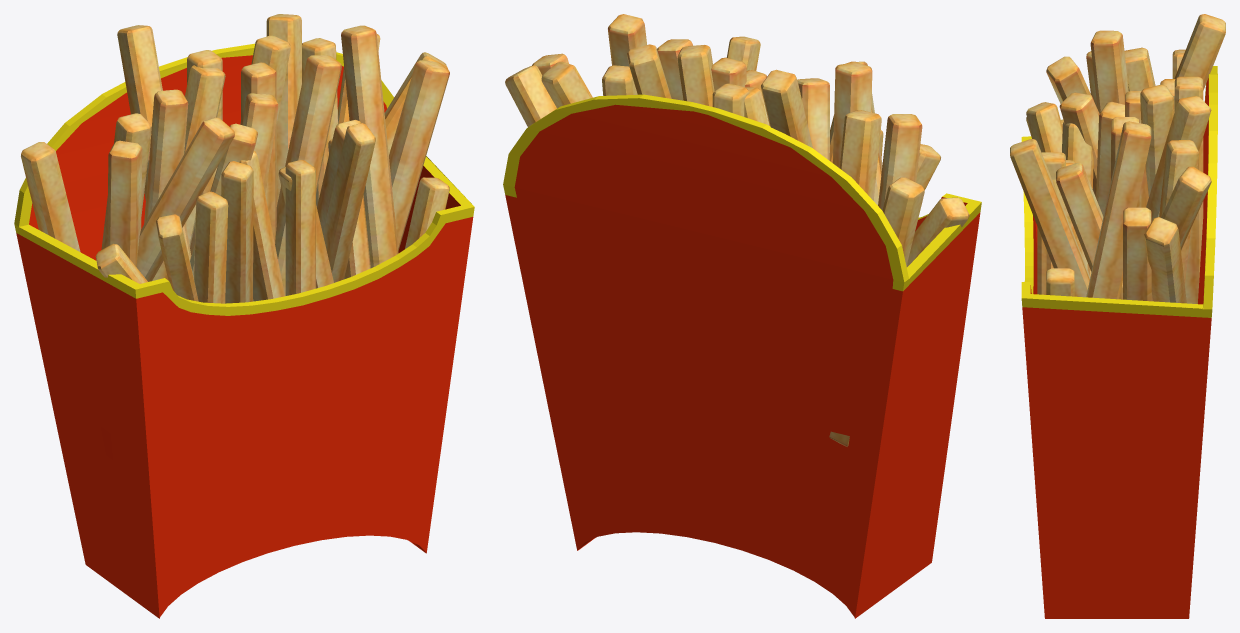
File: fries We are cooked.fbx
3 views of the same model, side by side, from view 1: azimuth 30°, elevation 25°; view 2: azimuth 150°, elevation 25°; view 3: azimuth 270°, elevation 25° (orthographic). The views are drawn at different scales.
Visible parts, largest first — view 1: bakje, french frie.012, french frie.011, french frie.019, french frie.014, french frie.023, french frie.026, french frie.020, french frie.018, french frie.017, french frie.001, french frie.027 (+18 smaller); view 2: bakje, french frie.002, french frie.018, french frie.003, french frie.017, french frie.001, french frie.005, french frie.016, french frie.008, french frie.028, french frie.006, french frie.009 (+7 smaller); view 3: bakje, french frie.012, french frie.023, french frie.008, french frie.013, french frie.011, french frie.017, french frie.006, french frie.005, french frie.003, french frie, french frie.009 (+12 smaller).
Boxes of the visible parts, <box> form: bakje: <box>14,43,474,618</box>; french frie.012: <box>341,25,398,268</box>; french frie.011: <box>389,60,449,250</box>; french frie.019: <box>136,117,234,281</box>; french frie.014: <box>275,55,341,296</box>; french frie.023: <box>323,123,375,282</box>; french frie.026: <box>221,161,253,303</box>; french frie.020: <box>285,160,315,295</box>; french frie.018: <box>107,140,142,266</box>; french frie.017: <box>144,89,188,280</box>; french frie.001: <box>21,142,80,251</box>; french frie.027: <box>194,191,228,303</box>; bakje: <box>503,94,981,618</box>; french frie.002: <box>839,110,881,200</box>; french frie.018: <box>878,114,922,267</box>; french frie.003: <box>761,69,812,147</box>; french frie.017: <box>832,61,872,167</box>; french frie.001: <box>829,177,924,446</box>; french frie.005: <box>677,45,714,106</box>; french frie.016: <box>797,78,829,160</box>; french frie.008: <box>505,65,556,126</box>; french frie.028: <box>907,197,969,266</box>; french frie.006: <box>627,44,671,98</box>; french frie.009: <box>541,61,592,108</box>; bakje: <box>1021,66,1217,618</box>; french frie.012: <box>1086,121,1151,299</box>; french frie.023: <box>1010,139,1090,297</box>; french frie.008: <box>1144,217,1186,303</box>; french frie.013: <box>1056,163,1122,299</box>; french frie.011: <box>1123,207,1151,301</box>; french frie.017: <box>1090,30,1128,113</box>; french frie.006: <box>1146,96,1211,220</box>; french frie.005: <box>1140,84,1174,196</box>; french frie.003: <box>1174,14,1225,90</box>; french frie: <box>1174,76,1203,303</box>; french frie.009: <box>1161,166,1211,250</box>.
Bounding box in the file's own units: 12.05 × 14.54 × 5.66.
